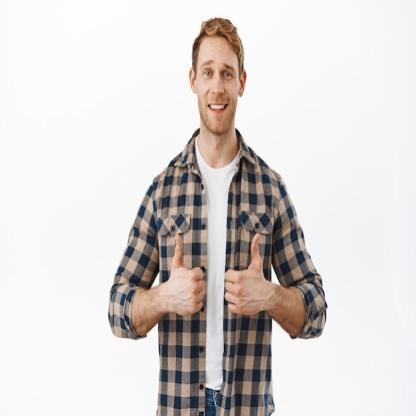thumb_up: (222, 230, 270, 320), (162, 230, 206, 318)
